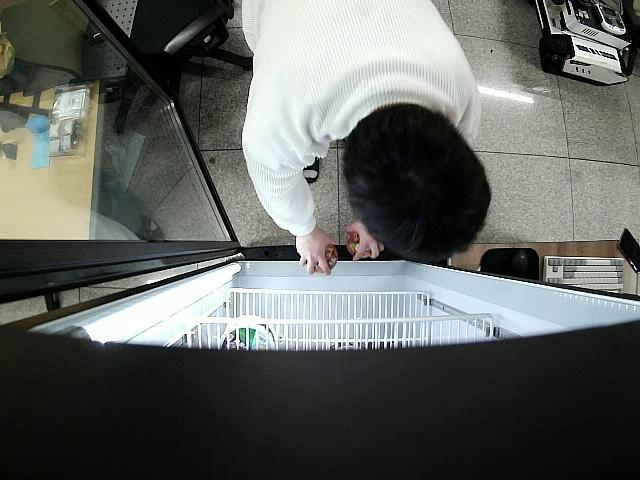00_hand: (297, 227, 335, 273), (347, 221, 385, 260)
06_nuguri_S: (304, 243, 337, 273), (347, 231, 381, 259)
